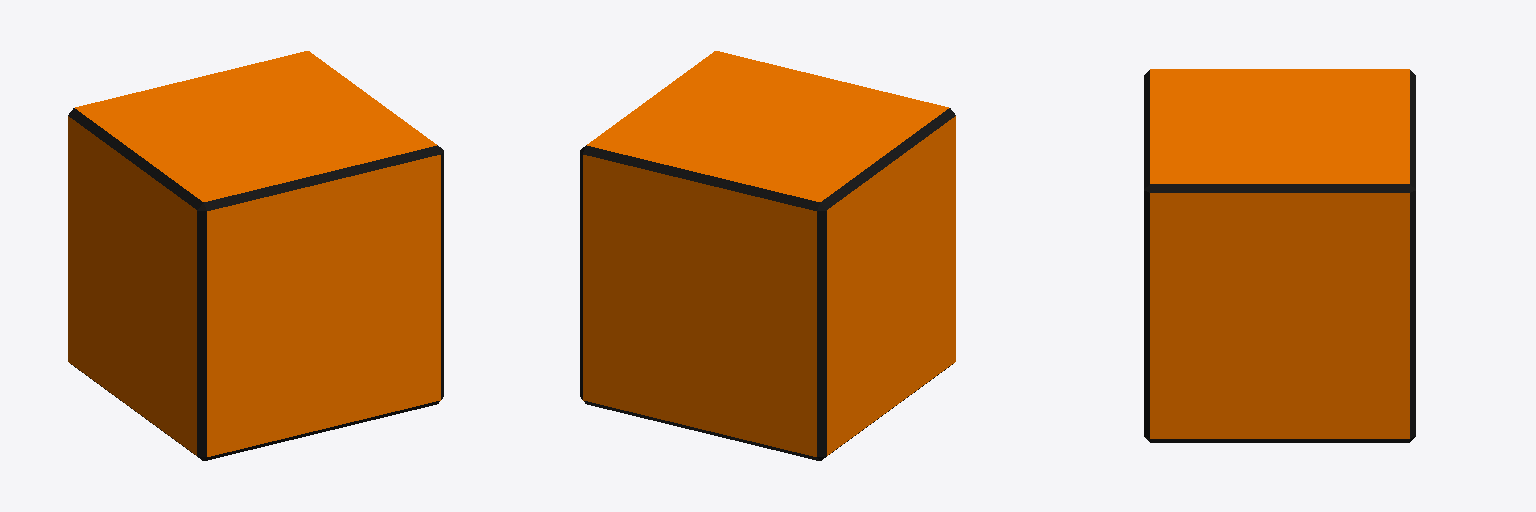
3 views of the same model, side by side, from view 1: azimuth 30°, elevation 25°; view 2: azimuth 150°, elevation 25°; view 3: azimuth 270°, elevation 25° (orthographic).
Parts seen in each view (by area): view 1: cube1; view 2: cube1; view 3: cube1.
Part boxes in pixels (x1,y1,x2,y2): cube1: (68,51,443,460); cube1: (580,51,955,460); cube1: (1144,69,1415,442).
Size of the model in its own units: 19.21 by 19.28 by 18.4.
2 materials, 2 textured.